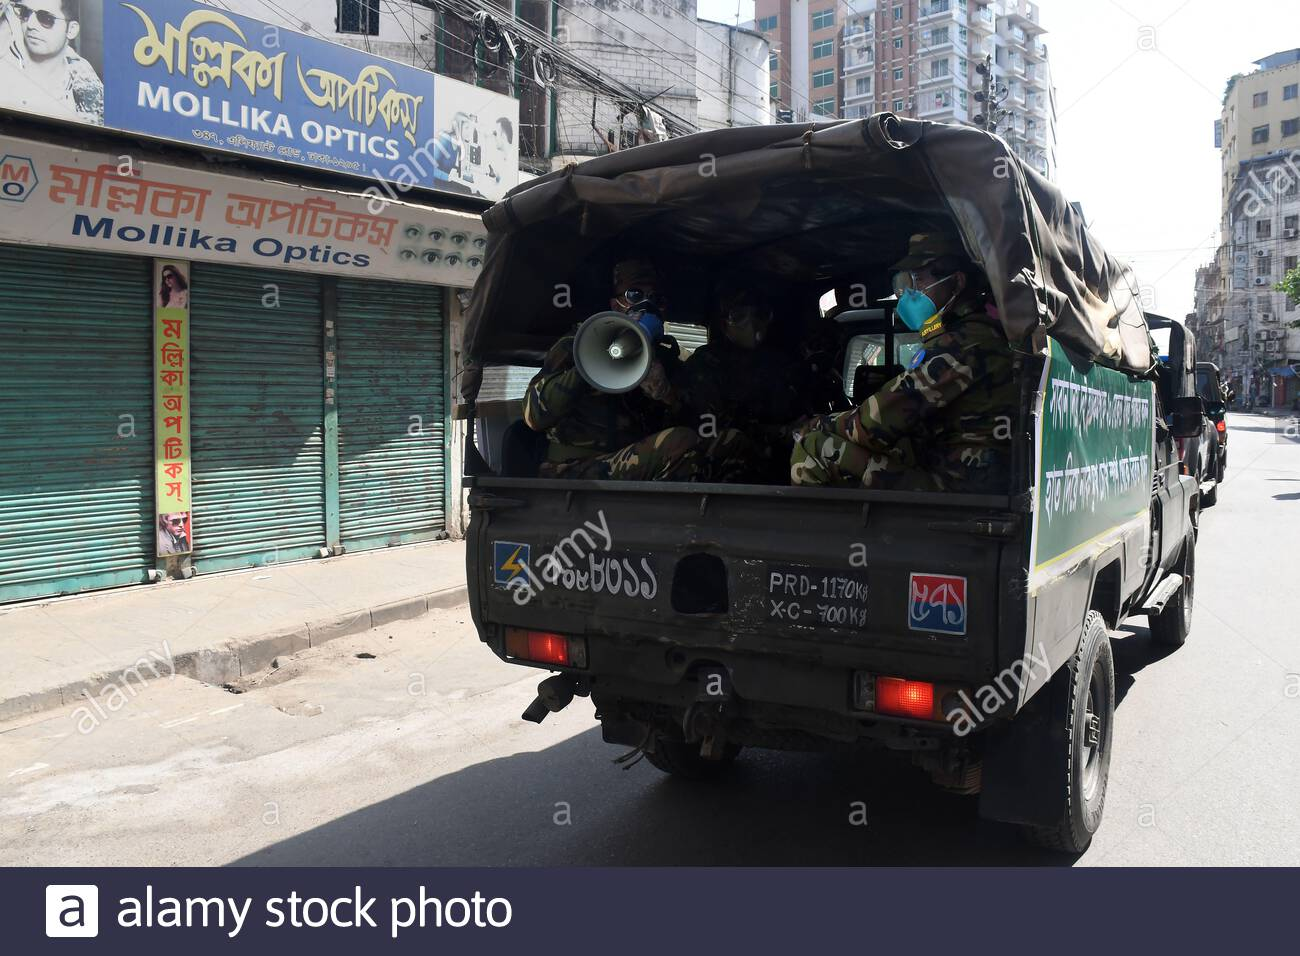army vehicle: (458, 112, 1233, 860)
